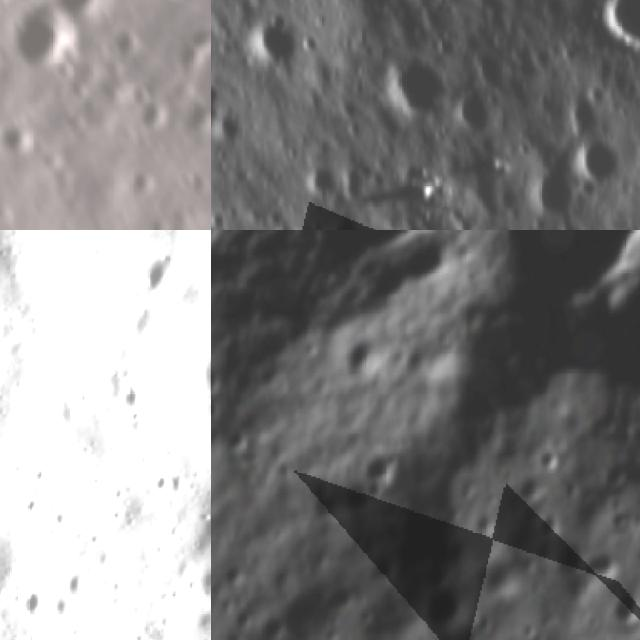crater: (449, 230, 640, 322), (568, 230, 640, 431), (255, 230, 477, 287), (374, 47, 466, 138), (0, 0, 87, 88), (235, 0, 321, 85), (519, 151, 602, 230), (561, 126, 639, 204), (438, 78, 509, 152), (211, 29, 247, 157), (585, 0, 640, 75), (557, 86, 619, 147), (120, 95, 180, 155), (330, 321, 386, 380), (416, 580, 477, 634), (0, 113, 51, 177), (290, 154, 347, 211), (130, 246, 190, 298), (32, 0, 117, 35), (346, 436, 401, 486), (546, 526, 592, 583), (302, 200, 382, 230), (578, 535, 623, 583), (506, 466, 556, 509), (602, 580, 640, 631), (380, 0, 464, 23), (525, 438, 571, 480), (16, 583, 64, 623), (593, 454, 635, 495), (443, 0, 520, 17), (16, 492, 51, 523), (415, 625, 486, 640), (621, 444, 640, 493), (211, 357, 226, 403)
